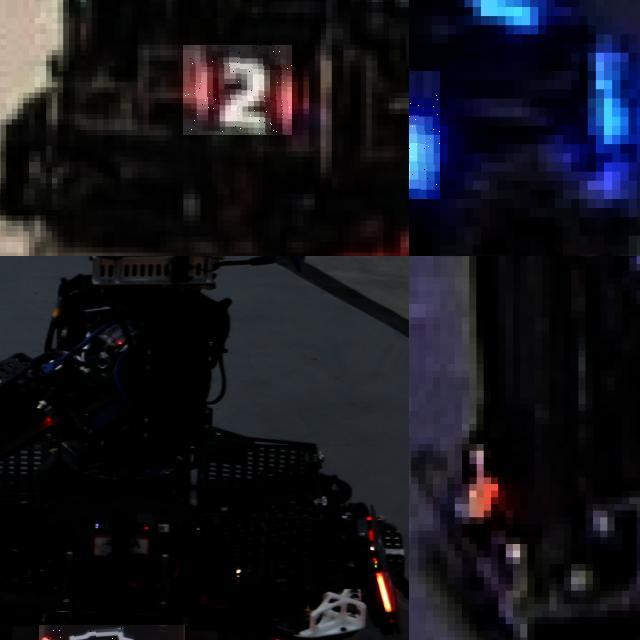R2: (183, 45, 292, 135)
Rs: (38, 624, 185, 640)
